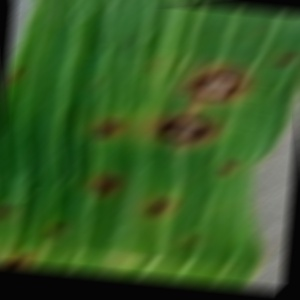Bacterial_Leaf_Blight: (147, 105, 227, 156), (177, 60, 253, 106), (86, 171, 125, 200), (93, 113, 126, 144), (143, 197, 172, 218), (0, 250, 33, 265), (216, 156, 238, 177), (268, 51, 296, 66), (43, 222, 65, 236), (8, 66, 26, 82), (115, 35, 134, 48), (184, 236, 203, 248), (0, 204, 16, 218), (193, 58, 211, 69), (144, 58, 160, 70), (89, 79, 99, 88)
